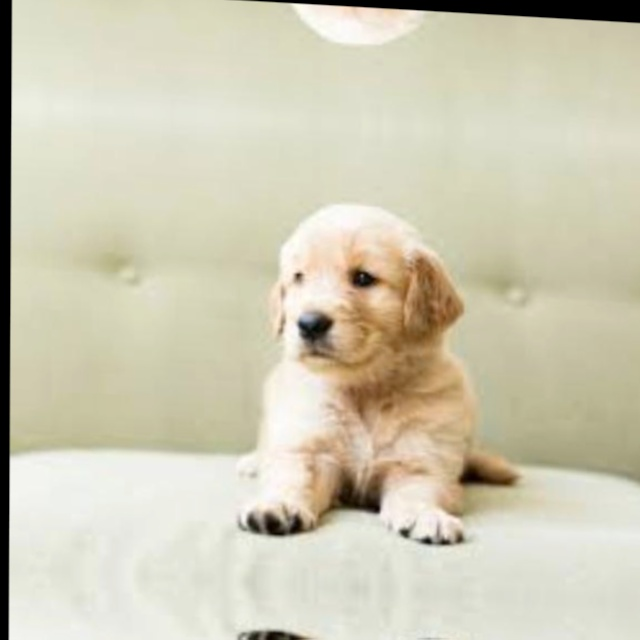dog: (235, 176, 511, 559), (237, 1, 512, 74), (234, 620, 509, 640)
